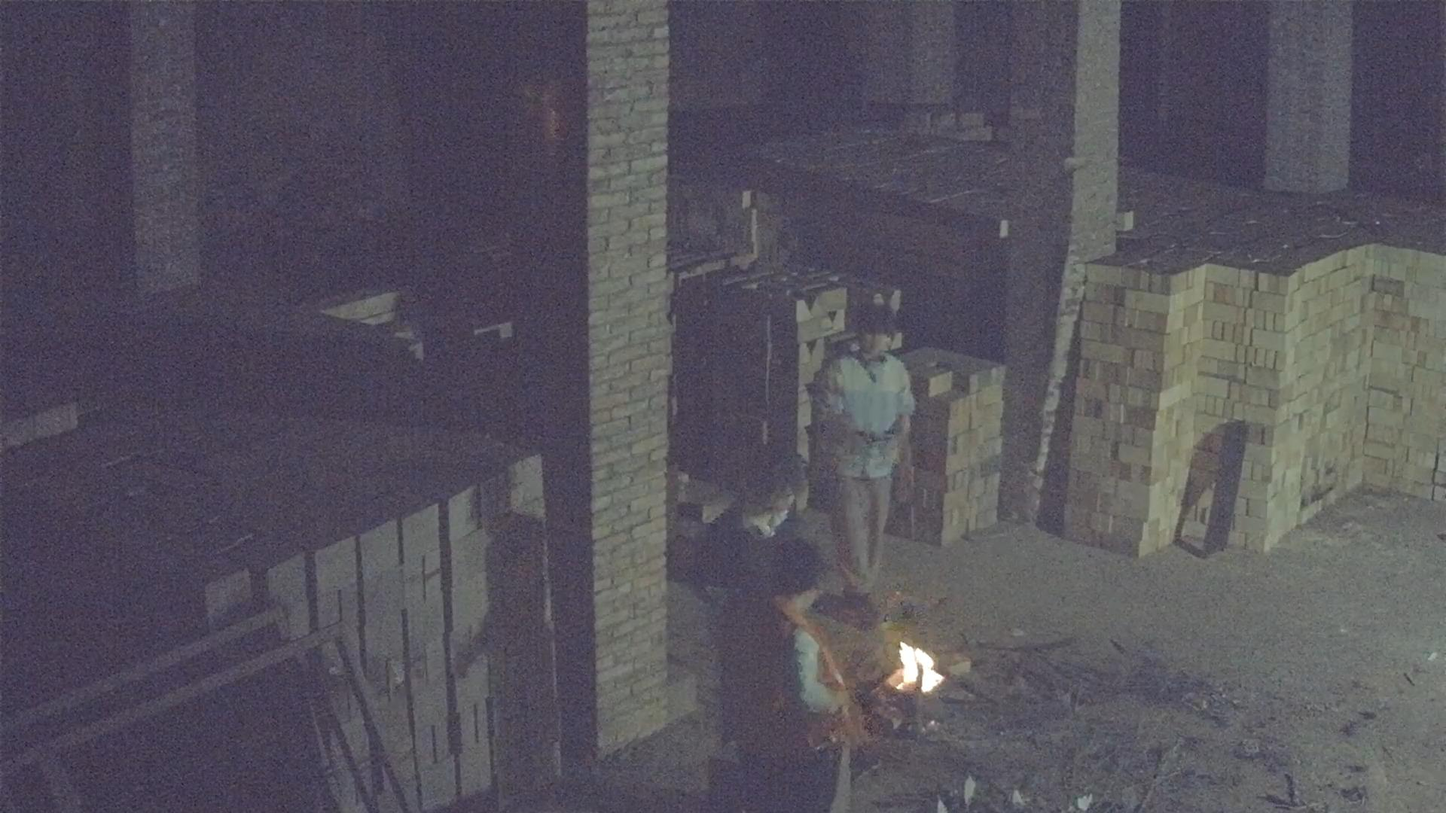fire: (895, 642, 944, 693)
